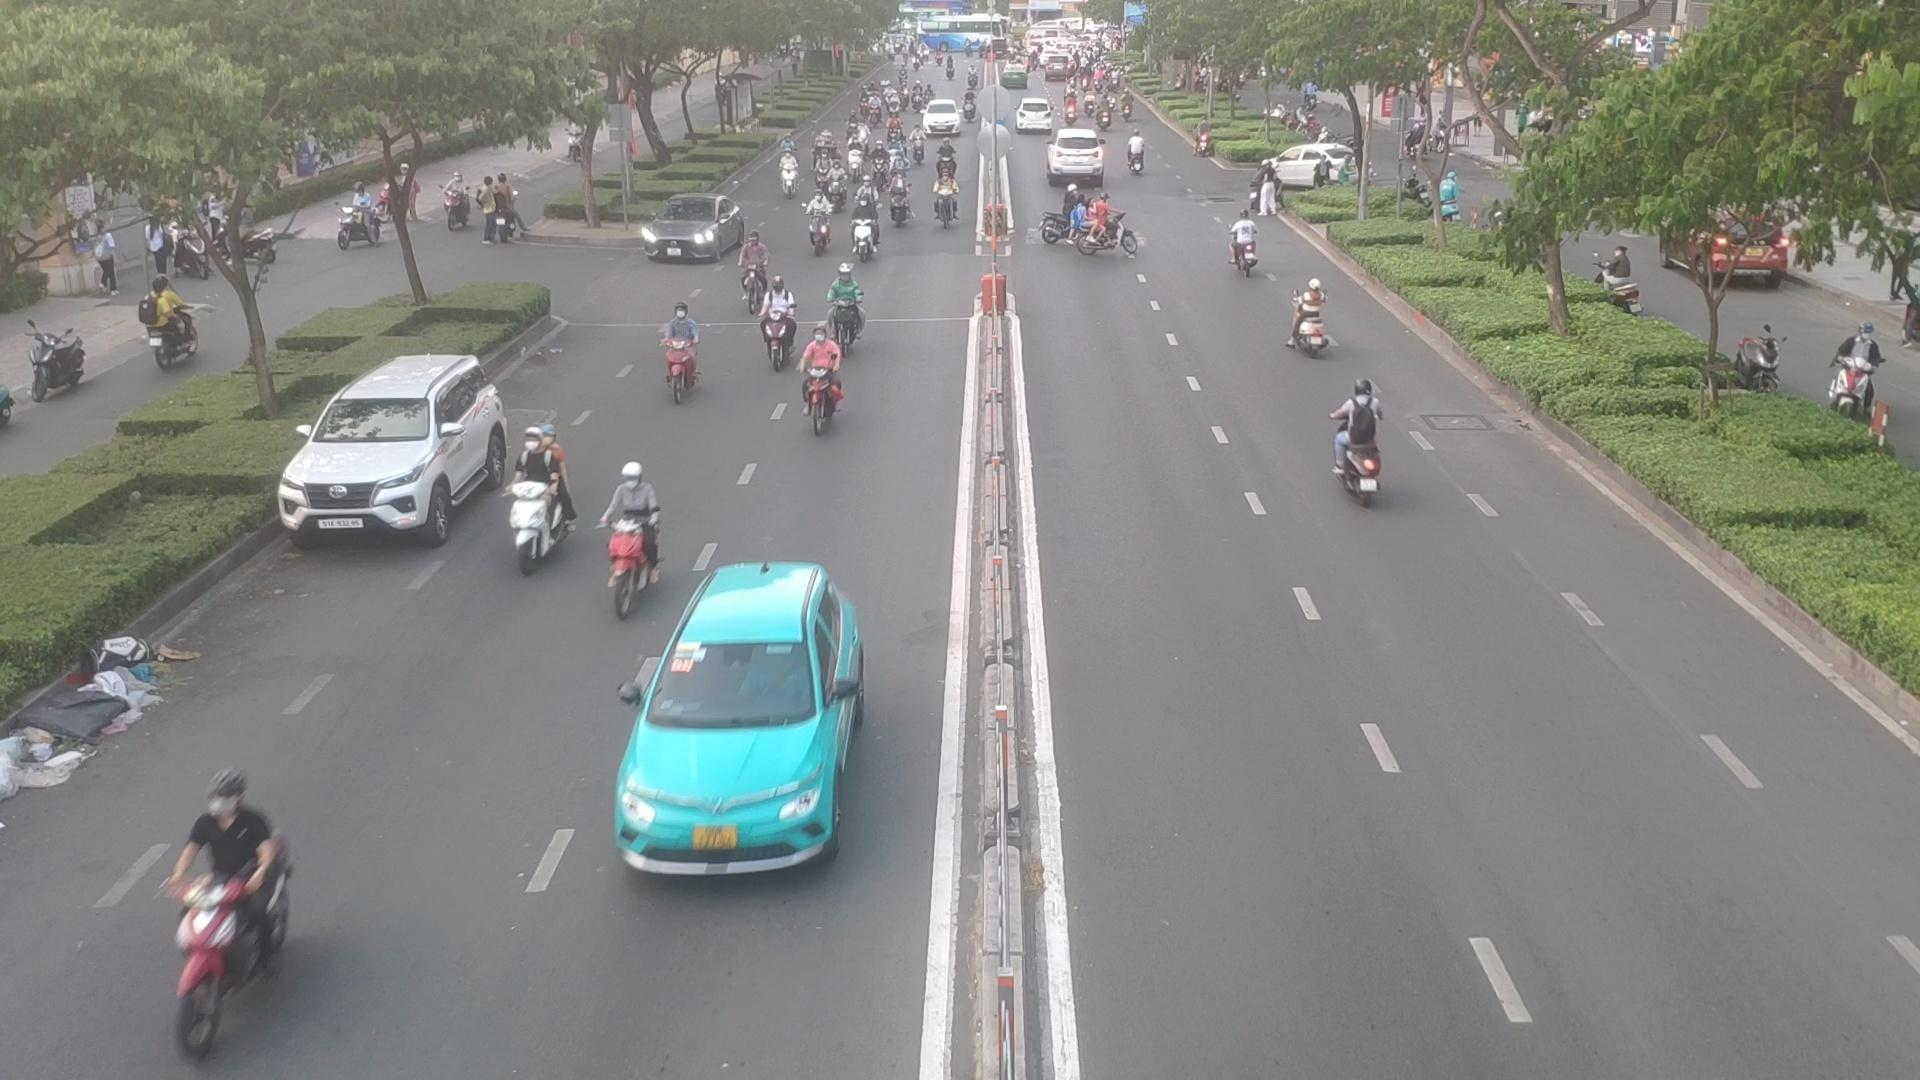car: (611, 564, 861, 876), (272, 351, 514, 541), (640, 198, 746, 266), (1250, 131, 1350, 183), (1040, 121, 1117, 183)
motorbike: (160, 757, 291, 1048), (589, 447, 659, 607), (506, 433, 572, 559), (647, 302, 711, 407), (1327, 375, 1371, 502), (1072, 196, 1138, 256), (800, 318, 836, 421), (1288, 280, 1328, 359), (829, 264, 862, 357), (764, 278, 796, 367), (737, 228, 771, 313), (1232, 216, 1261, 280), (808, 189, 833, 253), (851, 193, 877, 251), (930, 167, 951, 218), (889, 169, 906, 225), (1125, 127, 1146, 171), (825, 162, 844, 208), (778, 154, 796, 196), (868, 142, 889, 179), (887, 135, 909, 171), (940, 136, 957, 170), (848, 138, 860, 175), (816, 149, 827, 185), (913, 125, 920, 161)
